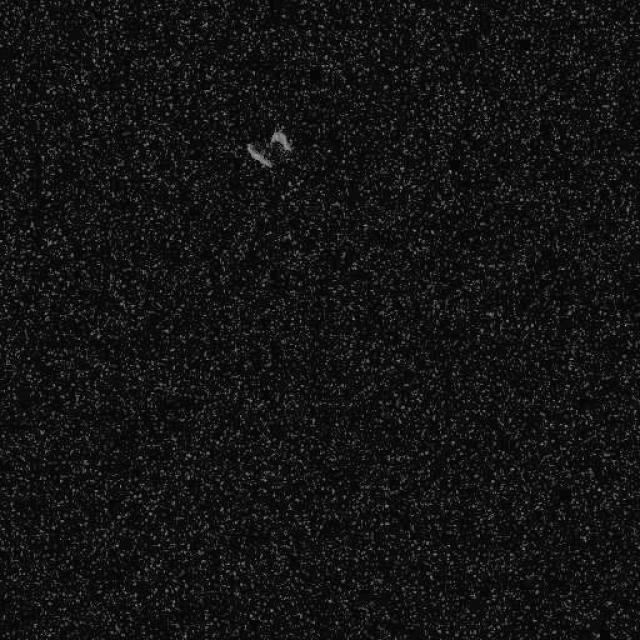D2: (244, 125, 294, 170)
